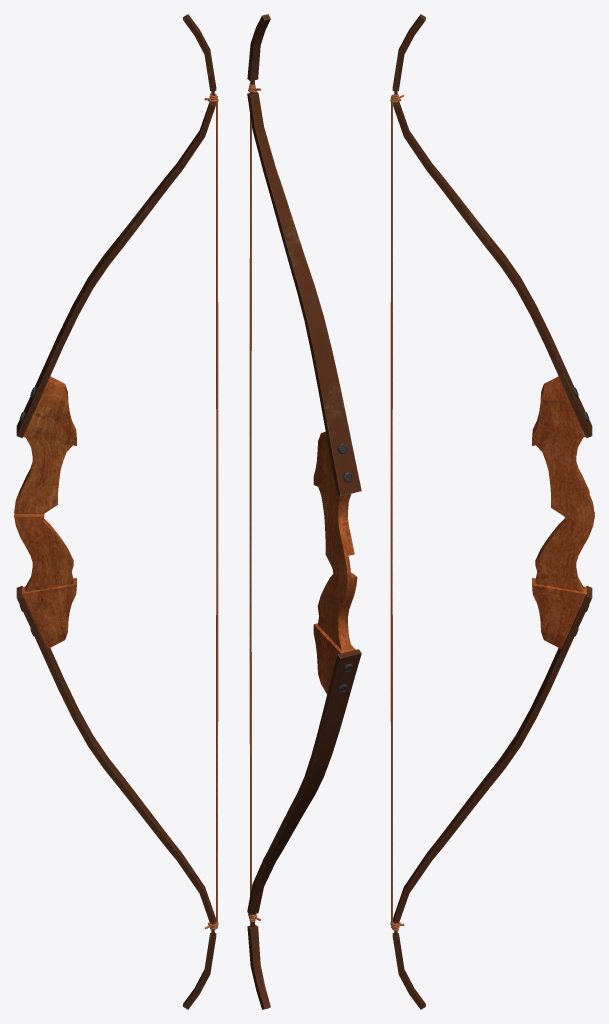
Rendered from recurve2.glb.
The picture shows the model from 3 angles, left to right: view 1: azimuth 90°, elevation 25°; view 2: azimuth 210°, elevation 25°; view 3: azimuth 270°, elevation 25°; orthographic projection.
Visible parts, largest first — view 1: Object_395; view 2: Object_395; view 3: Object_395.
Boxes of the visible parts, bbox=[...] form: Object_395: bbox=[14, 14, 218, 1009]; Object_395: bbox=[247, 14, 361, 1009]; Object_395: bbox=[390, 14, 594, 1009].
Bounding box in the file's own units: 0.0339 × 1.51 × 0.2818.
Materials: 1 (1 with a texture image).
